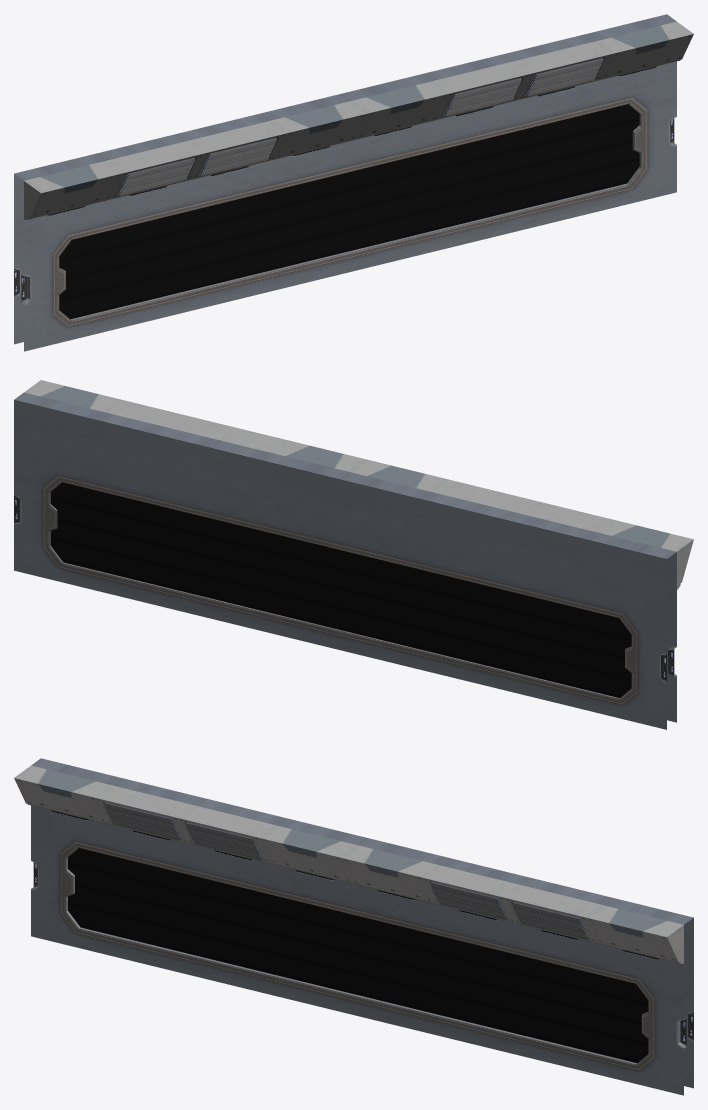
Rendered from DS_SM031_Scifi_Room_WallWindow16M_01.fbx.
3 views of the same model, one above another, from view 1: azimuth 30°, elevation 25°; view 2: azimuth 150°, elevation 25°; view 3: azimuth 330°, elevation 25° (orthographic).
Visible parts, largest first — view 1: DS_SM031_Scifi_Room_WallWindow16M_01, Gate; view 2: DS_SM031_Scifi_Room_WallWindow16M_01, Gate; view 3: DS_SM031_Scifi_Room_WallWindow16M_01, Gate.
Part boxes in pixels (x1,y1,x2,y2): DS_SM031_Scifi_Room_WallWindow16M_01: (14, 14, 693, 351); Gate: (59, 104, 639, 319); DS_SM031_Scifi_Room_WallWindow16M_01: (14, 380, 693, 729); Gate: (50, 482, 631, 697); DS_SM031_Scifi_Room_WallWindow16M_01: (14, 758, 693, 1095); Gate: (68, 848, 648, 1062).
Bounding box in the file's own units: 3200 × 800 × 229.
